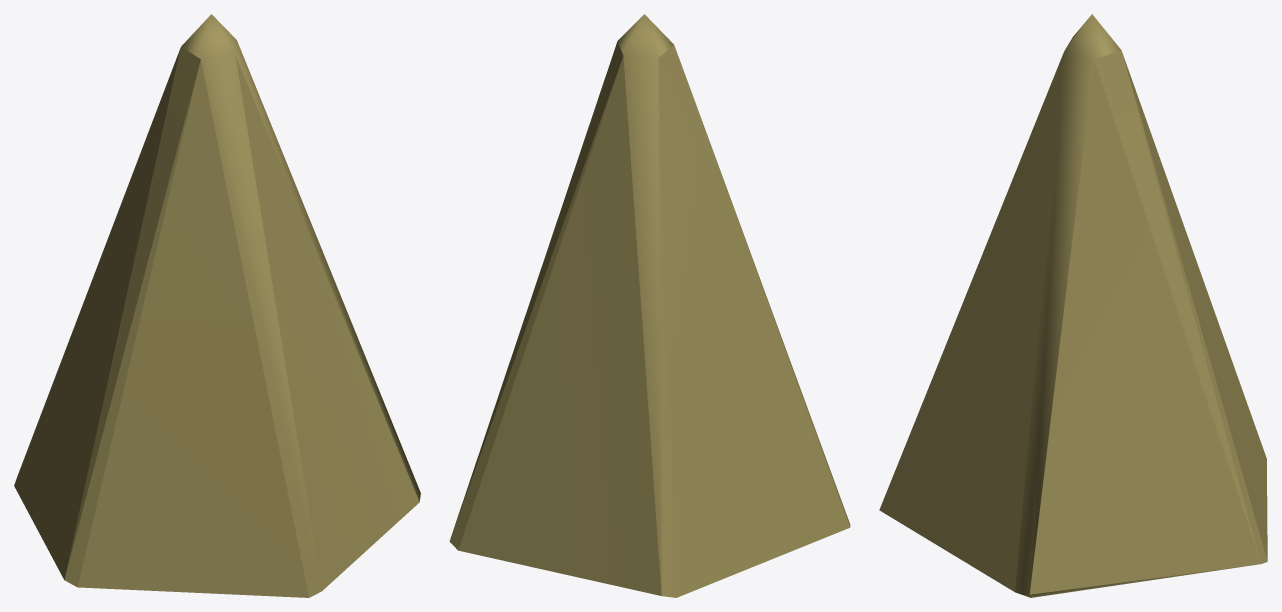
File: prop_fiber_lod1.glb
The picture shows the model from 3 angles, left to right: view 1: azimuth 30°, elevation 25°; view 2: azimuth 150°, elevation 25°; view 3: azimuth 270°, elevation 25°; orthographic projection.
Visible parts, largest first — view 1: prop_fiber_lod1; view 2: prop_fiber_lod1; view 3: prop_fiber_lod1.
Part boxes in pixels (x1,y1,x2,y2): prop_fiber_lod1: [14, 14, 420, 597]; prop_fiber_lod1: [449, 14, 850, 597]; prop_fiber_lod1: [879, 14, 1267, 597].
Size of the model in its own units: 0.3596 by 0.4915 by 0.3432.
